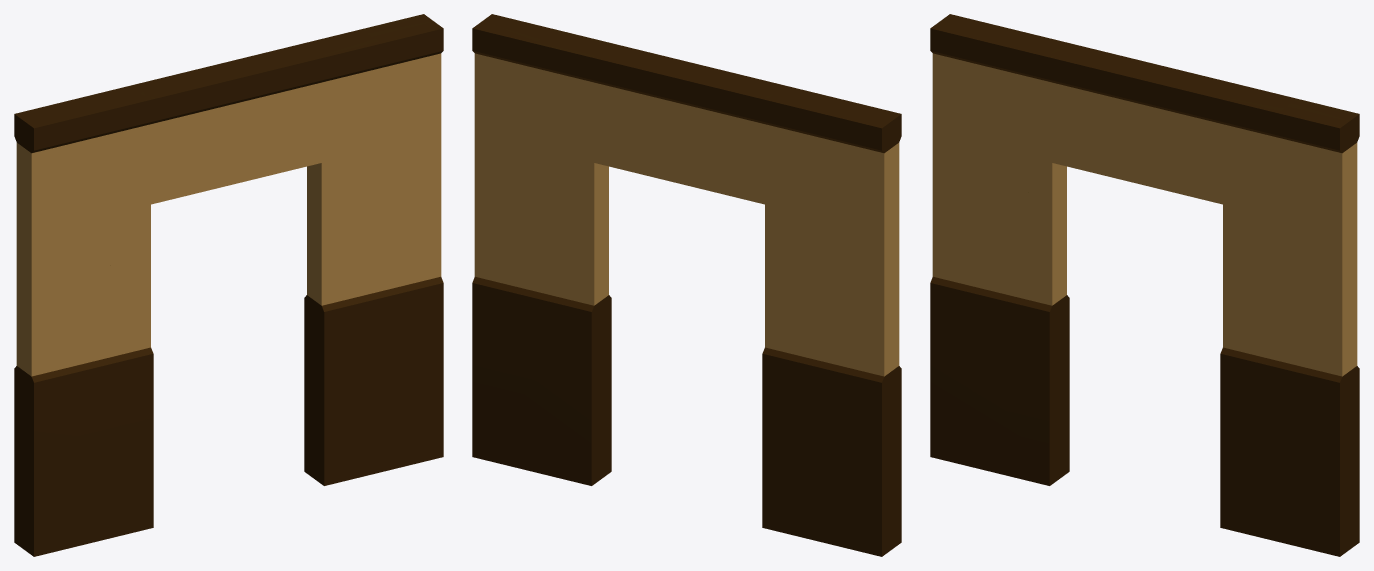
File: Classic_WallDoorFrame_01_snaps001.fbx
The picture shows the model from 3 angles, left to right: view 1: azimuth 30°, elevation 25°; view 2: azimuth 150°, elevation 25°; view 3: azimuth 330°, elevation 25°; orthographic projection.
Parts seen in each view (by area): view 1: Classic_WallDoorFrame_01_snaps001_frag_116, Classic_WallDoorFrame_01_snaps001_frag_091, Classic_WallDoorFrame_01_snaps001_frag_011, Classic_WallDoorFrame_01_snaps001_frag_106, Classic_WallDoorFrame_01_snaps001_frag_117, Classic_WallDoorFrame_01_snaps001_frag_016, Classic_WallDoorFrame_01_snaps001_frag_041, Classic_WallDoorFrame_01_snaps001_frag_051, Classic_WallDoorFrame_01_snaps001_frag_025, Classic_WallDoorFrame_01_snaps001_frag_022, Classic_WallDoorFrame_01_snaps001_frag_004, Classic_WallDoorFrame_01_snaps001_frag_048 (+82 smaller); view 2: Classic_WallDoorFrame_01_snaps001_frag_116, Classic_WallDoorFrame_01_snaps001_frag_091, Classic_WallDoorFrame_01_snaps001_frag_011, Classic_WallDoorFrame_01_snaps001_frag_106, Classic_WallDoorFrame_01_snaps001_frag_016, Classic_WallDoorFrame_01_snaps001_frag_117, Classic_WallDoorFrame_01_snaps001_frag_041, Classic_WallDoorFrame_01_snaps001_frag_051, Classic_WallDoorFrame_01_snaps001_frag_025, Classic_WallDoorFrame_01_snaps001_frag_022, Classic_WallDoorFrame_01_snaps001_frag_004, Classic_WallDoorFrame_01_snaps001_frag_048 (+81 smaller); view 3: Classic_WallDoorFrame_01_snaps001_frag_117, Classic_WallDoorFrame_01_snaps001_frag_114, Classic_WallDoorFrame_01_snaps001_frag_006, Classic_WallDoorFrame_01_snaps001_frag_085, Classic_WallDoorFrame_01_snaps001_frag_027, Classic_WallDoorFrame_01_snaps001_frag_011, Classic_WallDoorFrame_01_snaps001_frag_016, Classic_WallDoorFrame_01_snaps001_frag_116, Classic_WallDoorFrame_01_snaps001_frag_091, Classic_WallDoorFrame_01_snaps001_frag_004, Classic_WallDoorFrame_01_snaps001_frag_080, Classic_WallDoorFrame_01_snaps001_frag_105 (+86 smaller).
Part boxes in pixels (x1,y1,x2,y2): Classic_WallDoorFrame_01_snaps001_frag_116: (14, 483, 93, 556); Classic_WallDoorFrame_01_snaps001_frag_091: (14, 319, 84, 383); Classic_WallDoorFrame_01_snaps001_frag_011: (14, 420, 102, 487); Classic_WallDoorFrame_01_snaps001_frag_106: (14, 111, 77, 183); Classic_WallDoorFrame_01_snaps001_frag_117: (362, 14, 443, 66); Classic_WallDoorFrame_01_snaps001_frag_016: (14, 460, 108, 519); Classic_WallDoorFrame_01_snaps001_frag_041: (307, 194, 375, 254); Classic_WallDoorFrame_01_snaps001_frag_051: (16, 264, 76, 330); Classic_WallDoorFrame_01_snaps001_frag_025: (14, 390, 81, 458); Classic_WallDoorFrame_01_snaps001_frag_022: (16, 172, 60, 257); Classic_WallDoorFrame_01_snaps001_frag_004: (39, 164, 85, 237); Classic_WallDoorFrame_01_snaps001_frag_048: (304, 416, 354, 485); Classic_WallDoorFrame_01_snaps001_frag_116: (822, 483, 901, 556); Classic_WallDoorFrame_01_snaps001_frag_091: (831, 319, 901, 383); Classic_WallDoorFrame_01_snaps001_frag_011: (813, 420, 901, 487); Classic_WallDoorFrame_01_snaps001_frag_106: (839, 111, 901, 183); Classic_WallDoorFrame_01_snaps001_frag_016: (807, 460, 901, 519); Classic_WallDoorFrame_01_snaps001_frag_117: (472, 14, 553, 66); Classic_WallDoorFrame_01_snaps001_frag_041: (540, 194, 608, 254); Classic_WallDoorFrame_01_snaps001_frag_051: (839, 264, 899, 330); Classic_WallDoorFrame_01_snaps001_frag_025: (834, 389, 901, 458); Classic_WallDoorFrame_01_snaps001_frag_022: (855, 173, 899, 257); Classic_WallDoorFrame_01_snaps001_frag_004: (829, 164, 876, 237); Classic_WallDoorFrame_01_snaps001_frag_048: (561, 416, 611, 485); Classic_WallDoorFrame_01_snaps001_frag_117: (1278, 99, 1359, 158); Classic_WallDoorFrame_01_snaps001_frag_114: (998, 345, 1069, 408); Classic_WallDoorFrame_01_snaps001_frag_006: (1275, 507, 1359, 556); Classic_WallDoorFrame_01_snaps001_frag_085: (1301, 272, 1357, 340); Classic_WallDoorFrame_01_snaps001_frag_027: (1291, 330, 1357, 379); Classic_WallDoorFrame_01_snaps001_frag_011: (930, 343, 998, 393); Classic_WallDoorFrame_01_snaps001_frag_016: (930, 388, 1004, 448); Classic_WallDoorFrame_01_snaps001_frag_116: (930, 397, 989, 470); Classic_WallDoorFrame_01_snaps001_frag_091: (930, 231, 985, 291); Classic_WallDoorFrame_01_snaps001_frag_004: (940, 85, 987, 155); Classic_WallDoorFrame_01_snaps001_frag_080: (1215, 83, 1297, 129); Classic_WallDoorFrame_01_snaps001_frag_105: (987, 428, 1069, 485).
Size of the model in its own units: 118 by 118 by 9.84.
